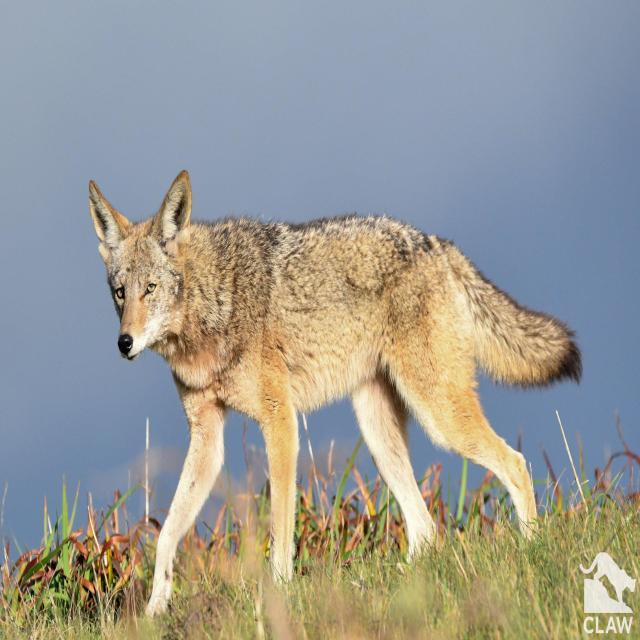Wolf: (67, 168, 595, 616)
